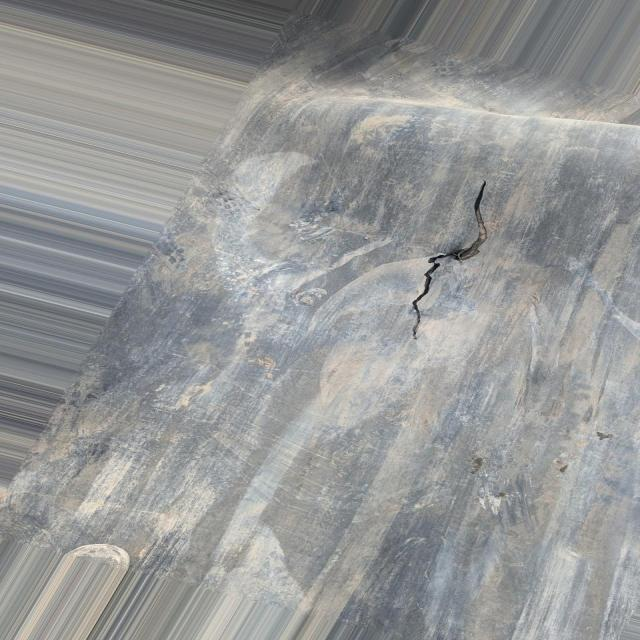Tear: (398, 175, 508, 347)
